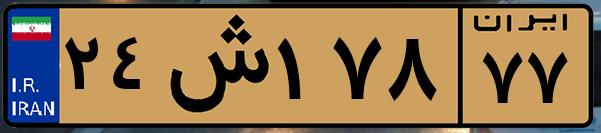1: (270, 28, 330, 110)
2: (57, 26, 110, 100)
4: (110, 28, 158, 98)
7: (330, 28, 385, 110), (475, 38, 525, 113), (525, 38, 570, 115)
8: (385, 28, 445, 110)
ش: (158, 12, 270, 120)
